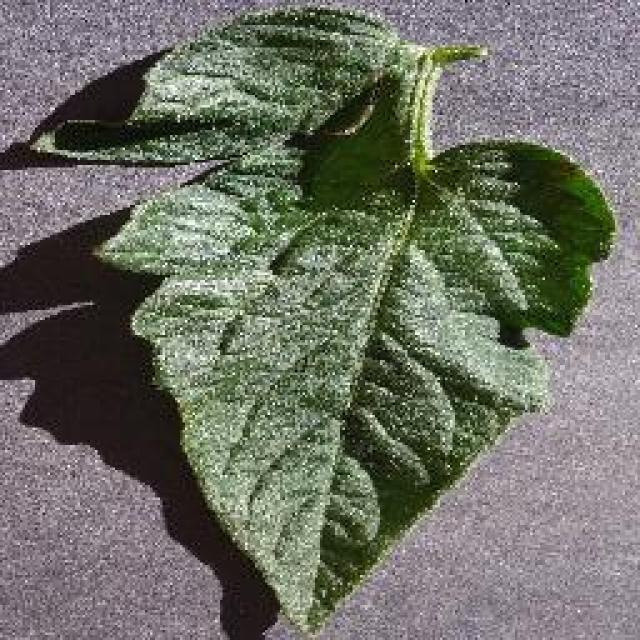Tomato___healthy: (26, 2, 620, 637)
